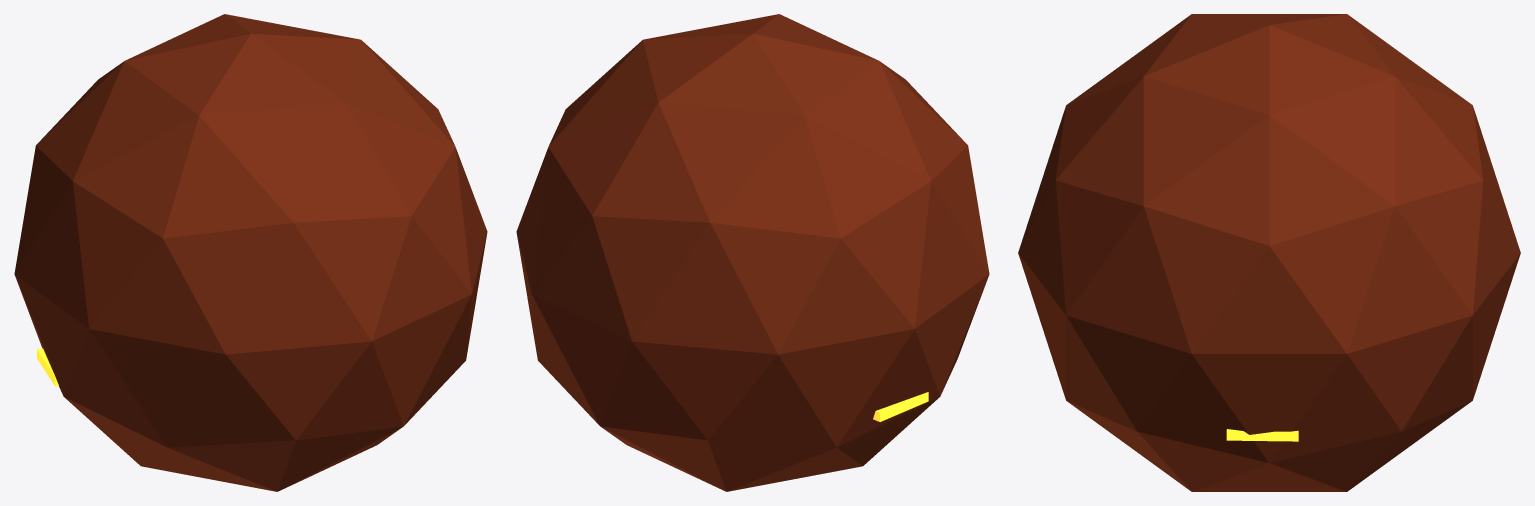
The model's file is prop_volcanus_lava_stone.fbx.
The picture shows the model from 3 angles, left to right: view 1: azimuth 30°, elevation 25°; view 2: azimuth 150°, elevation 25°; view 3: azimuth 270°, elevation 25°; orthographic projection. The views are drawn at different scales.
Parts seen in each view (by area): view 1: Vo_LavaStone_Rock; view 2: Vo_LavaStone_Rock, Vo_LavaStone_Crack_1; view 3: Vo_LavaStone_Rock, Vo_LavaStone_Crack_2.
Part boxes in pixels (x1,y1,x2,y2): Vo_LavaStone_Rock: (14,14,487,491); Vo_LavaStone_Rock: (516,14,989,491); Vo_LavaStone_Crack_1: (873,392,928,421); Vo_LavaStone_Rock: (1018,14,1520,491); Vo_LavaStone_Crack_2: (1226,429,1298,441).
Size of the model in its own units: 0.6657 by 0.7 by 0.7.
